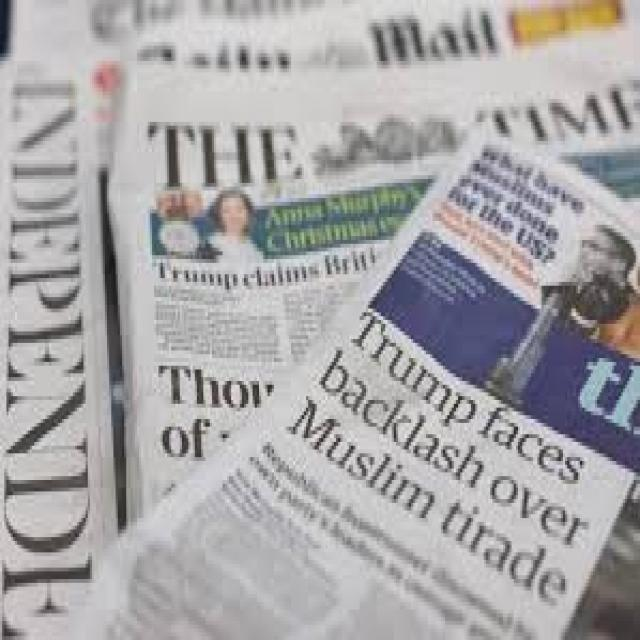Newspaper: (20, 126, 640, 640), (128, 29, 640, 515)
